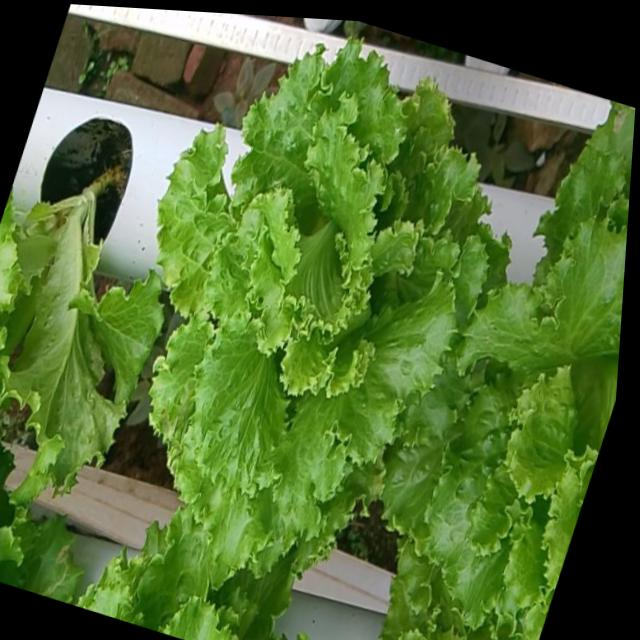Mature: (143, 39, 486, 575), (378, 202, 628, 623)
